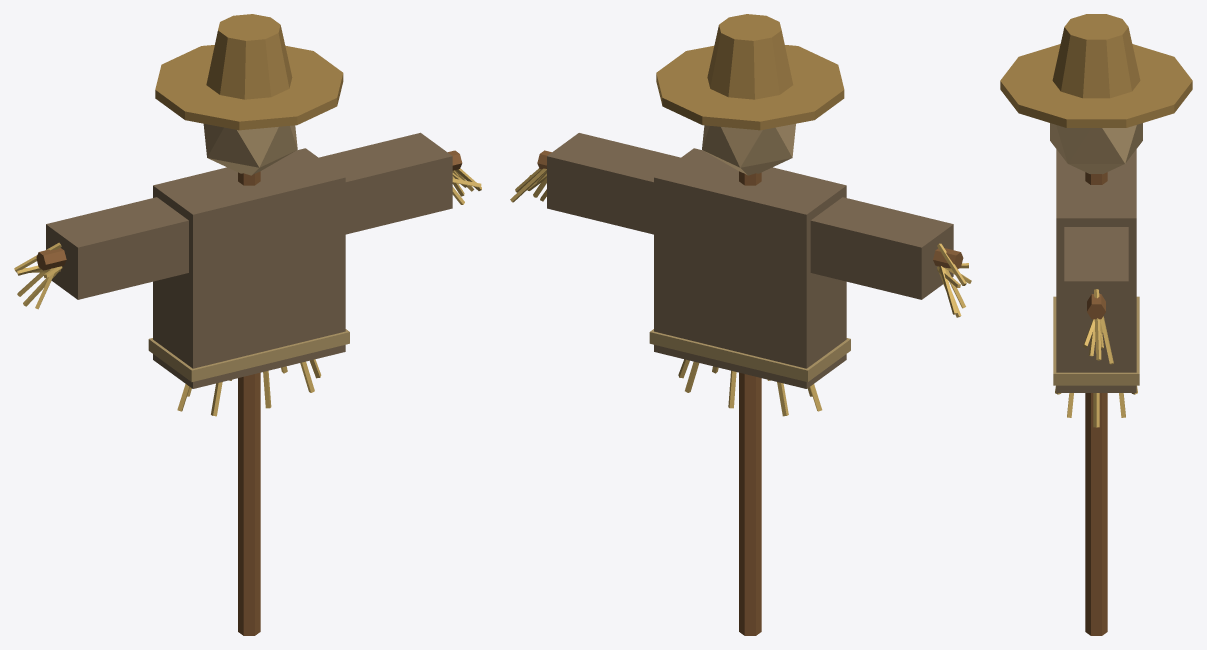
Rendered from scarecrow.glb.
The picture shows the model from 3 angles, left to right: view 1: azimuth 30°, elevation 25°; view 2: azimuth 150°, elevation 25°; view 3: azimuth 270°, elevation 25°; orthographic projection.
Parts seen in each view (by area): view 1: scarecrow; view 2: scarecrow; view 3: scarecrow.
Boxes of the visible parts, x1,y1,x2,y2 form: scarecrow: (14,14,481,635); scarecrow: (510,14,971,635); scarecrow: (1000,14,1192,635).
Size of the model in its own units: 1.66 by 2.08 by 0.6.
